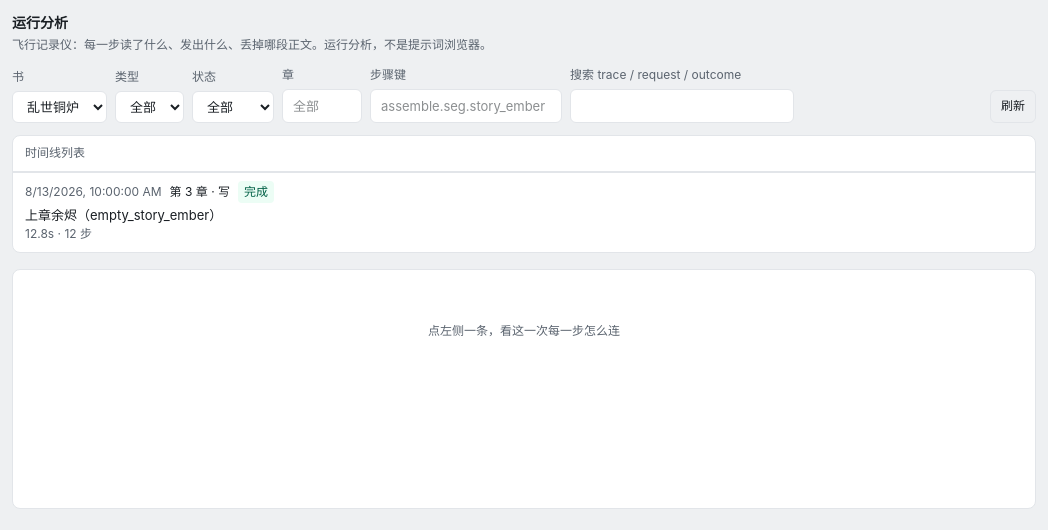
Scenario: 管理台写路径日志页 › 空卷宗不说记录仪可能没开
This screenshot has width=1048, height=530.
Click the list item with test id "run-logs-row" at (524, 212), box [13, 172, 1035, 252]
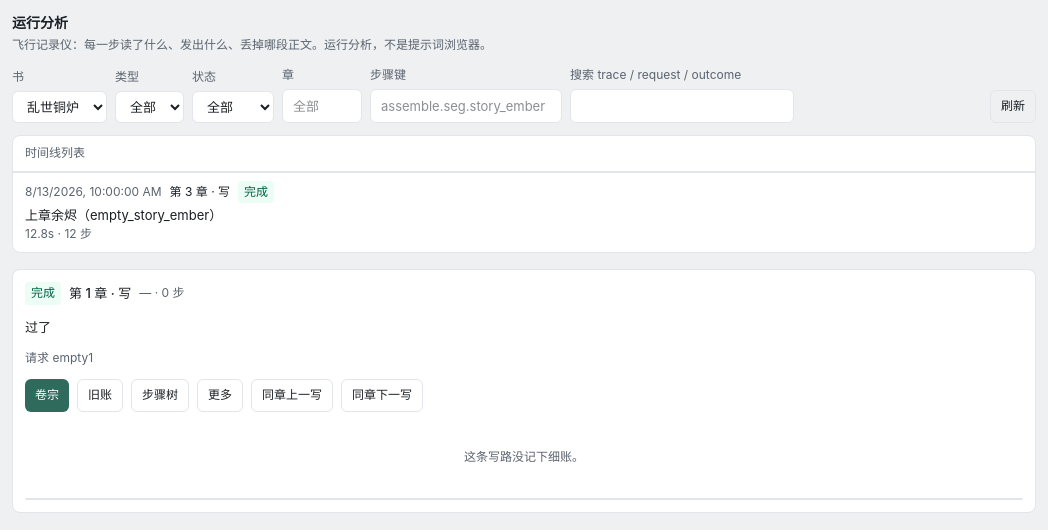
Now the text "这条写路没记下细账。" is shown, box [464, 449, 584, 464]
